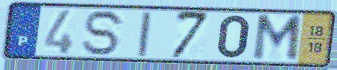0: (215, 14, 253, 60)
4: (42, 8, 76, 57)
7: (168, 9, 212, 61)
I: (136, 11, 154, 58)
M: (250, 14, 304, 64)
S: (81, 9, 128, 58)
